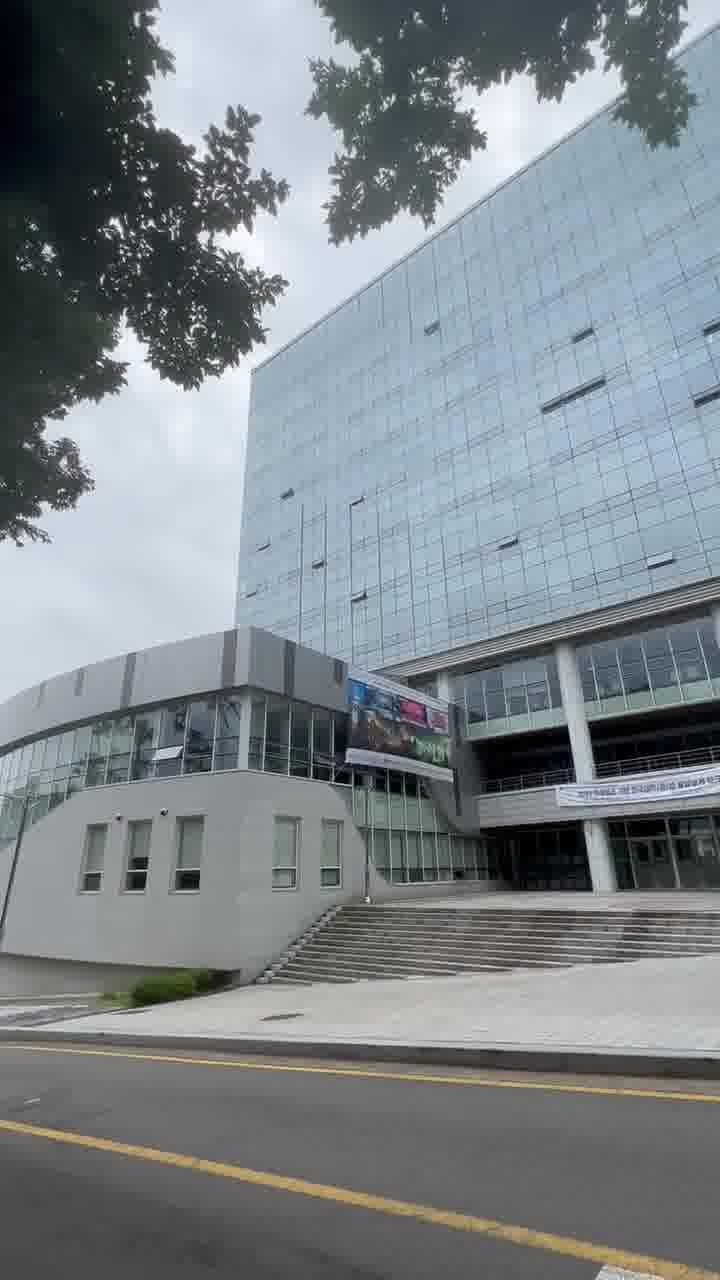building: (238, 318, 720, 828)
